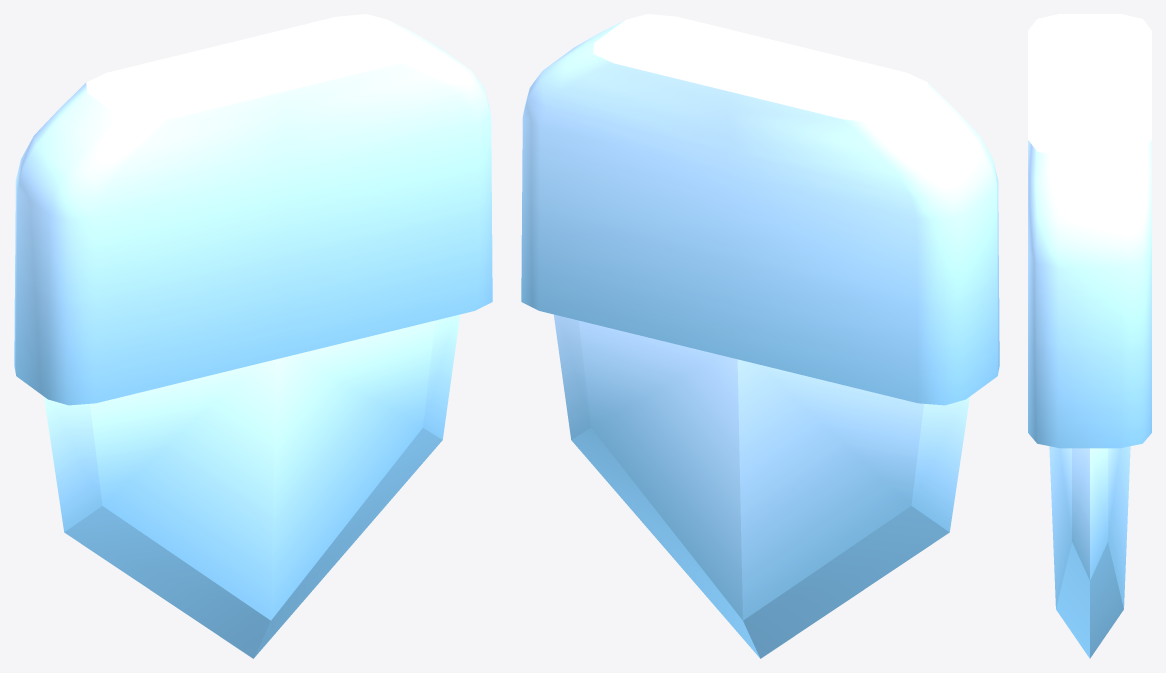
The model's file is steel_pommel_074.glb.
3 renders of one model, left to right at view 1: azimuth 30°, elevation 25°; view 2: azimuth 150°, elevation 25°; view 3: azimuth 270°, elevation 25°, orthographic. The views are drawn at different scales.
Parts seen in each view (by area): view 1: steel_pommel_074; view 2: steel_pommel_074; view 3: steel_pommel_074.
Part boxes in pixels (x1,y1,x2,y2): steel_pommel_074: (14, 14, 492, 658); steel_pommel_074: (521, 14, 999, 658); steel_pommel_074: (1028, 14, 1151, 658).
Size of the model in its own units: 1.66 by 2.12 by 0.4148.
1 material, 1 textured.
